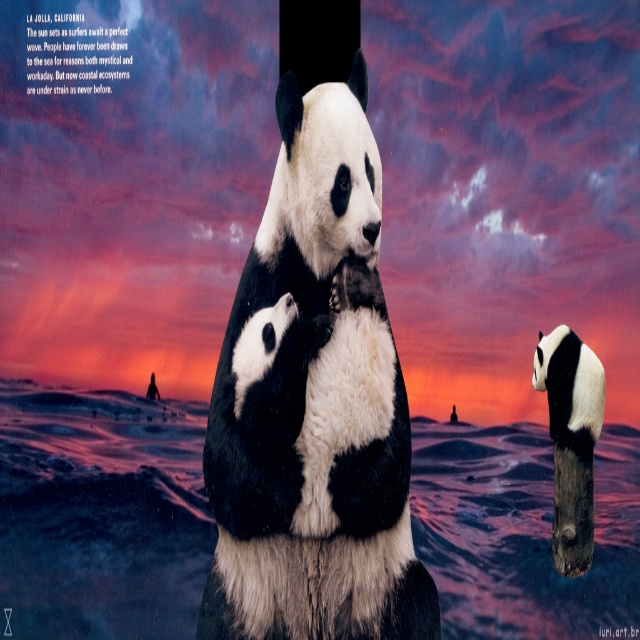Panda: (198, 44, 444, 639), (531, 318, 607, 456)
